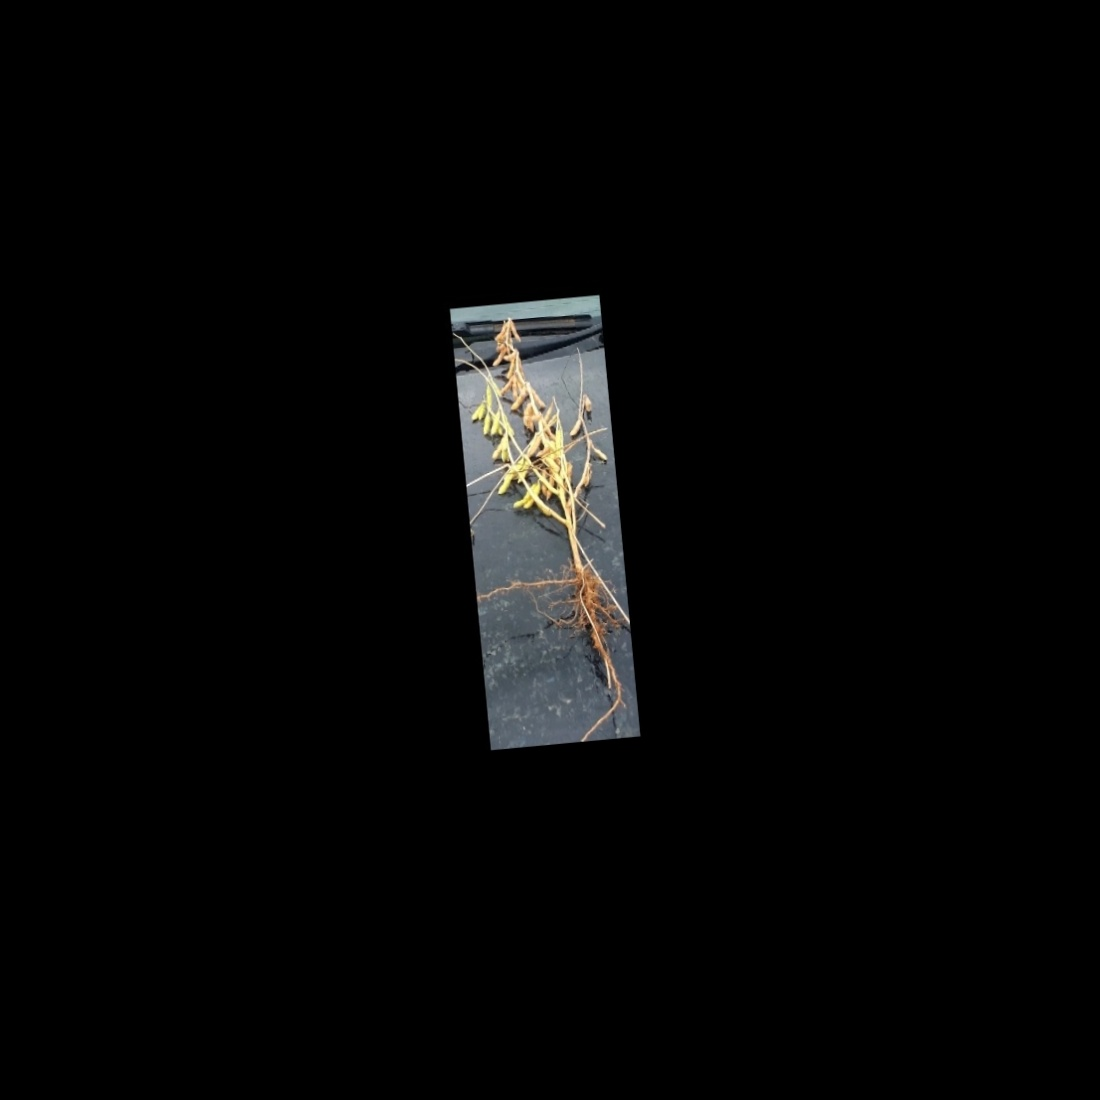pod: (493, 468, 516, 497), (506, 386, 531, 410), (588, 441, 608, 464), (566, 417, 586, 438), (468, 401, 487, 422), (480, 409, 493, 437), (509, 317, 521, 345)
soy: (459, 302, 635, 739)
